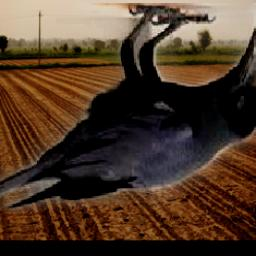Crow: (0, 4, 256, 212)
